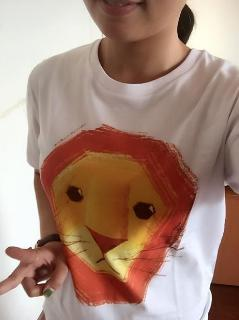short sleeve top: (26, 39, 239, 319)
